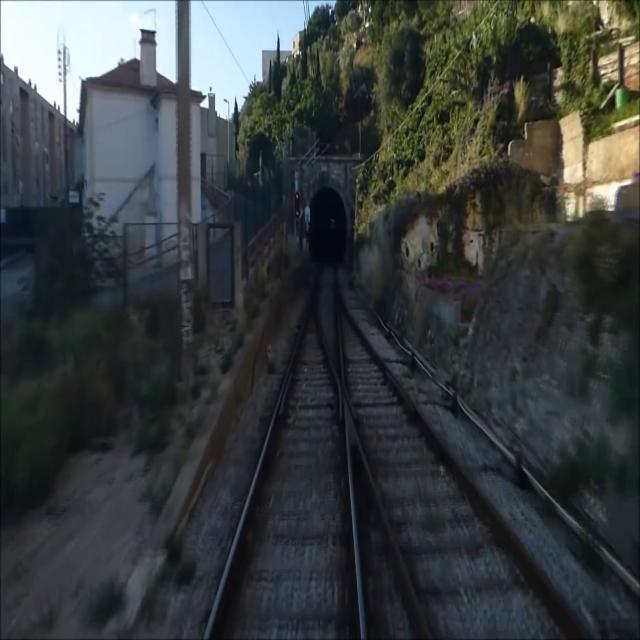rail-track: (338, 295, 586, 639), (208, 263, 360, 639)
